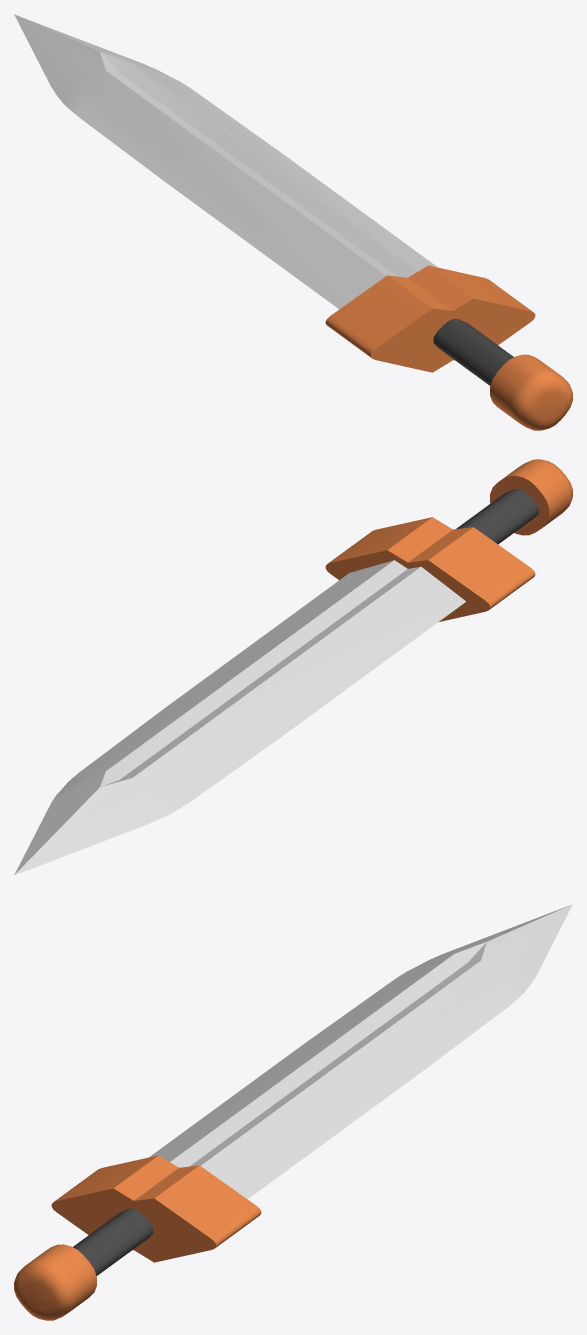
Rendered from Dagger.fbx.
The picture shows the model from 3 angles, top to bottom: view 1: azimuth 30°, elevation 25°; view 2: azimuth 150°, elevation 25°; view 3: azimuth 330°, elevation 25°; orthographic projection.
Parts seen in each view (by area): view 1: Cube.001, Cube.001_Plate, Cube.001_Plate_Plate_Plate, Cube.001_Plate_Plate; view 2: Cube.001, Cube.001_Plate, Cube.001_Plate_Plate_Plate, Cube.001_Plate_Plate; view 3: Cube.001, Cube.001_Plate, Cube.001_Plate_Plate_Plate, Cube.001_Plate_Plate.
Boxes of the visible parts, bbox=[...] form: Cube.001: bbox=[14, 14, 437, 309]; Cube.001_Plate: bbox=[325, 265, 535, 372]; Cube.001_Plate_Plate_Plate: bbox=[490, 354, 572, 430]; Cube.001_Plate_Plate: bbox=[433, 318, 513, 385]; Cube.001: bbox=[14, 560, 465, 875]; Cube.001_Plate: bbox=[325, 517, 535, 621]; Cube.001_Plate_Plate_Plate: bbox=[490, 459, 572, 535]; Cube.001_Plate_Plate: bbox=[456, 488, 538, 544]; Cube.001: bbox=[149, 904, 572, 1199]; Cube.001_Plate: bbox=[51, 1155, 261, 1262]; Cube.001_Plate_Plate_Plate: bbox=[14, 1244, 96, 1320]; Cube.001_Plate_Plate: bbox=[73, 1208, 153, 1275].
Bounding box in the file's own units: 36.07 × 13.48 × 203.
